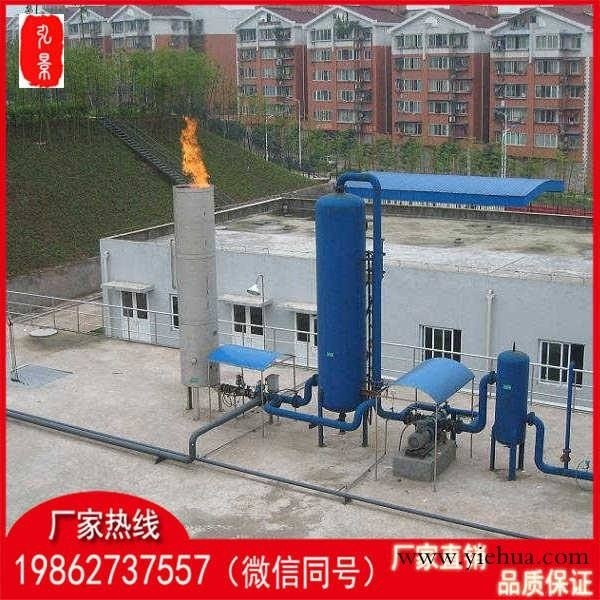fire: (179, 114, 210, 188)
